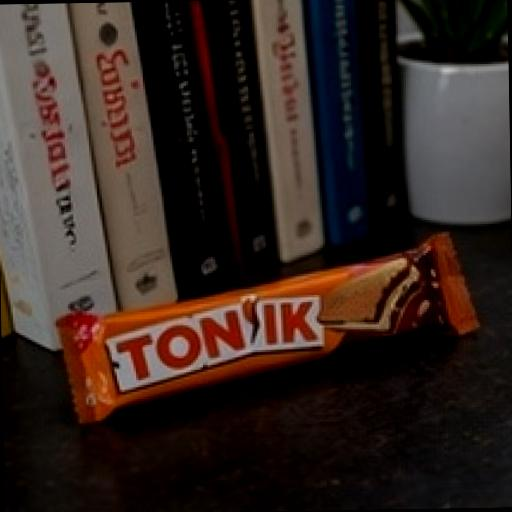tonik: (13, 220, 512, 431)
